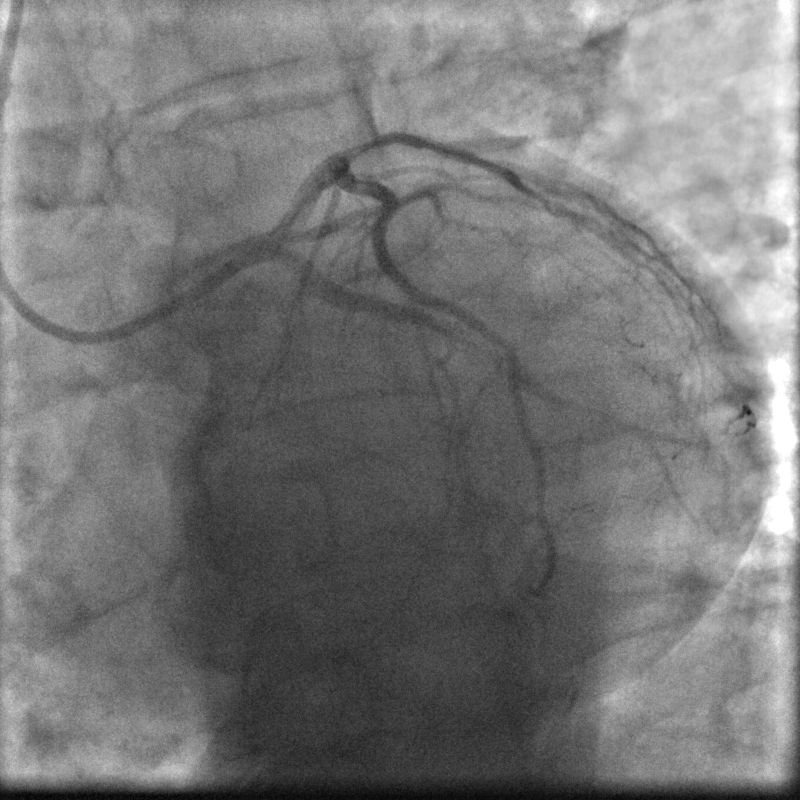Stenosis: (340, 131, 395, 166)
